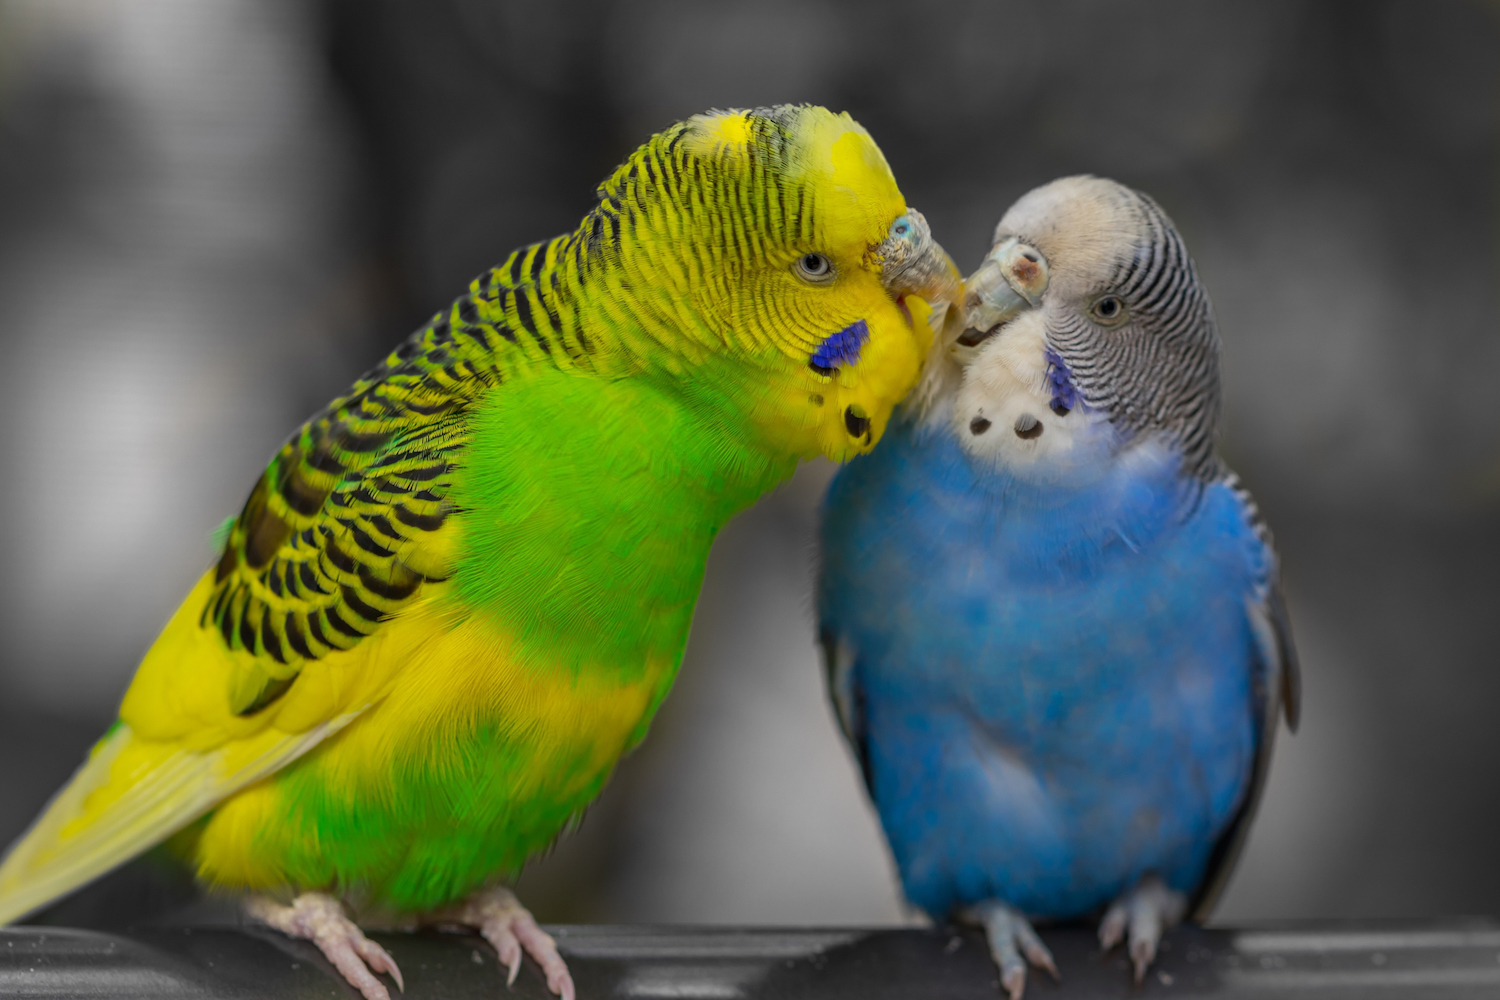budgie: (1, 92, 954, 985), (831, 169, 1300, 936)
